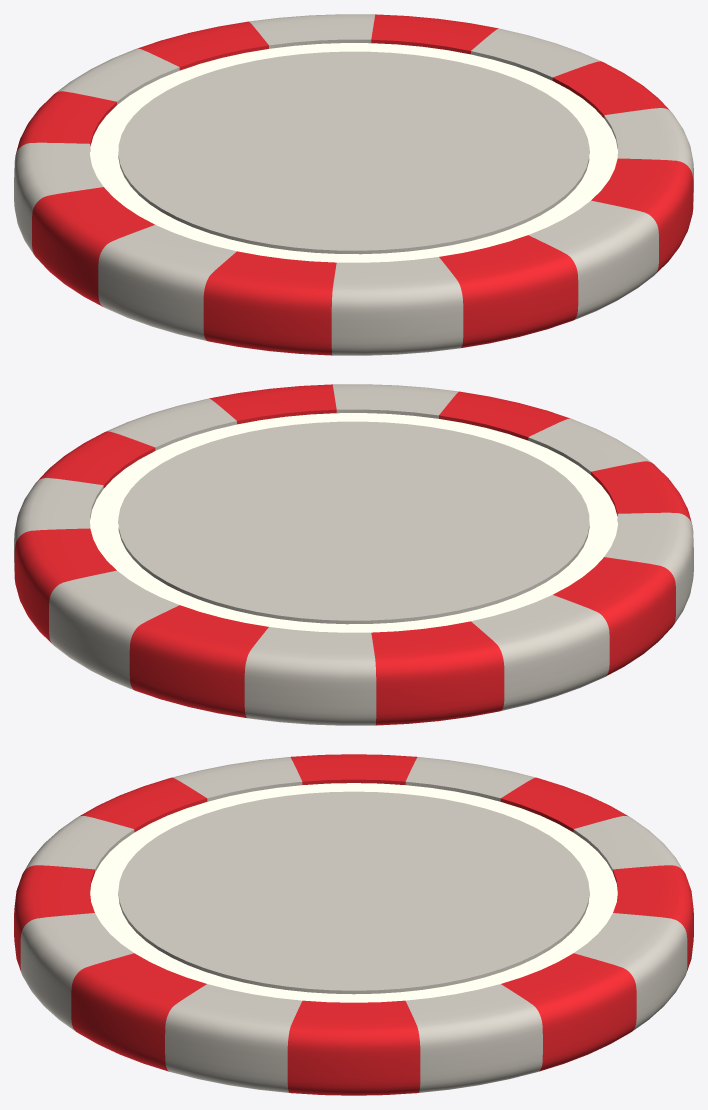
File: chip_white.glb
3 views of the same model, one above another, from view 1: azimuth 30°, elevation 25°; view 2: azimuth 150°, elevation 25°; view 3: azimuth 270°, elevation 25° (orthographic).
Parts seen in each view (by area): view 1: Cylinder; view 2: Cylinder; view 3: Cylinder.
Boxes of the visible parts, bbox=[...] form: Cylinder: bbox=[14, 14, 693, 355]; Cylinder: bbox=[14, 384, 693, 725]; Cylinder: bbox=[14, 754, 693, 1095].
Size of the model in its own units: 0.8942 by 0.0981 by 0.8942.
